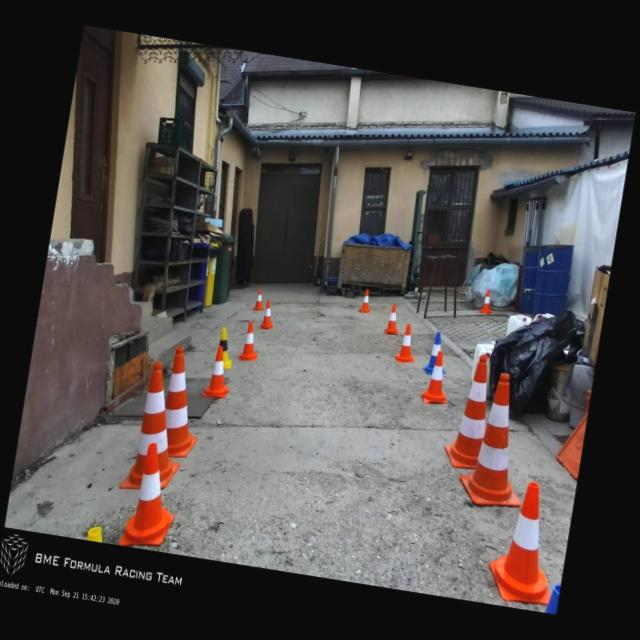blue_cone: (422, 330, 452, 377)
large_orange_cone: (456, 369, 540, 512), (119, 359, 196, 497), (441, 352, 497, 472), (158, 346, 212, 461)
orange_cone: (483, 478, 568, 608), (118, 439, 186, 554), (420, 349, 455, 406), (202, 345, 236, 400), (394, 322, 420, 365), (238, 321, 262, 364), (384, 302, 402, 336), (260, 300, 276, 332), (478, 289, 496, 315), (358, 288, 374, 314), (253, 288, 268, 312)
yellow_cone: (211, 327, 238, 372)
